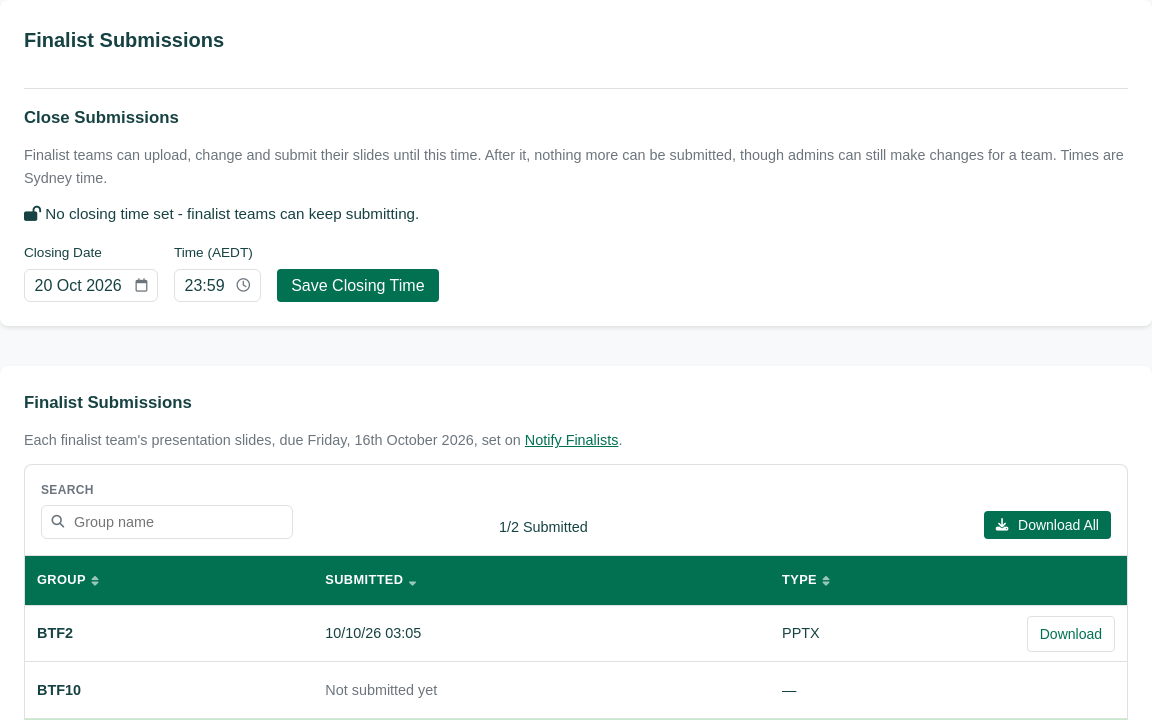
Test: the closing time card › sets a closing time once it is confirmed
Submit the form with class "finalist-close__form", box [277, 269, 439, 302]
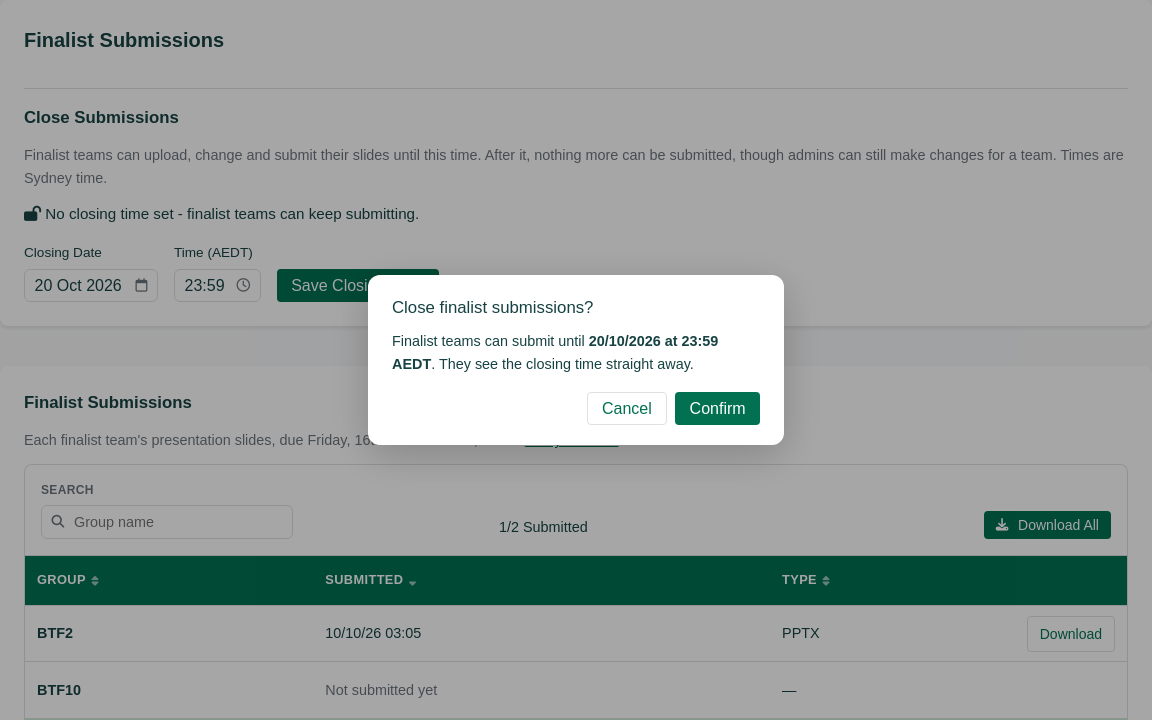
expect the dialog shows "Close finalist submissions?": met, box [392, 298, 594, 317]
Click the button "Confirm".
click(718, 408)  # box [675, 392, 760, 425]
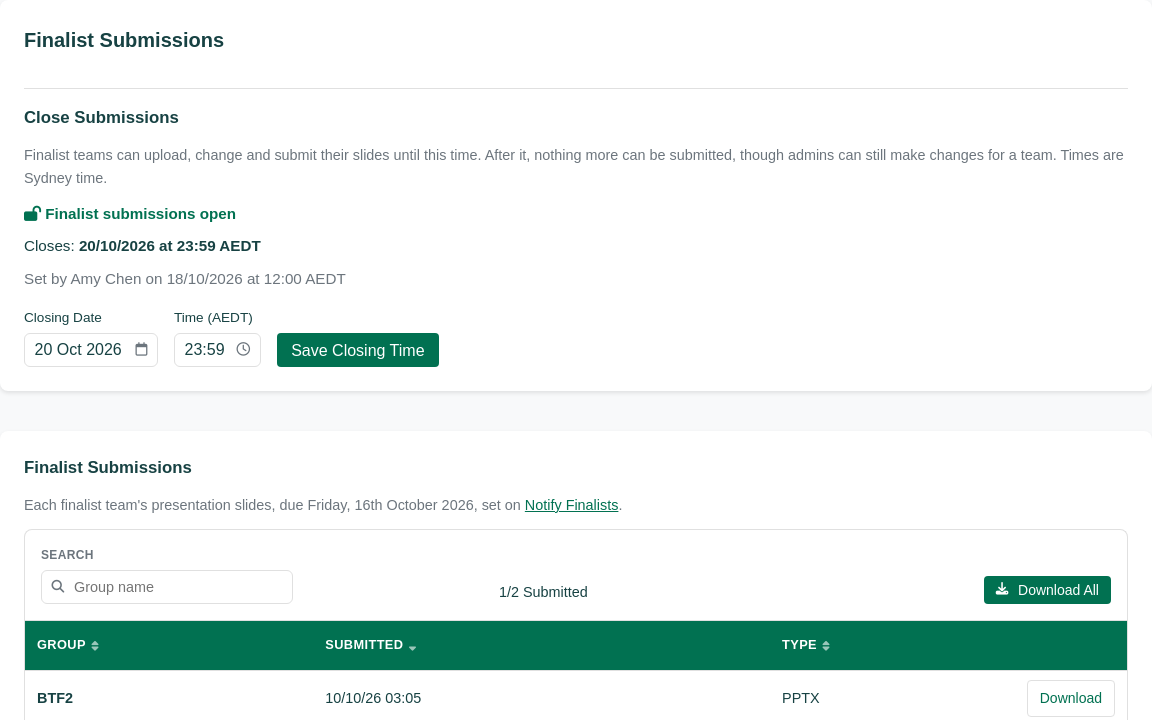
expect the element with class "finalist-close__state--open" reads "Finalist submissions open": met, box [41, 205, 236, 222]
